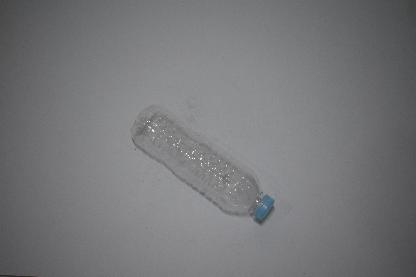Plastic Bottle: (127, 104, 274, 227)
